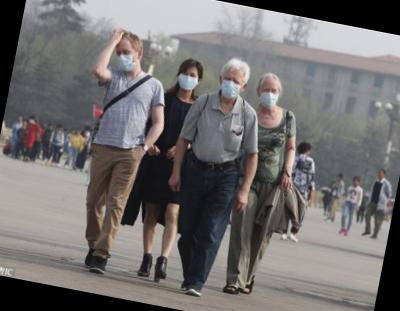with_mask: (111, 46, 139, 75), (218, 73, 245, 103), (257, 83, 281, 110), (175, 69, 200, 93)
without_mask: (378, 169, 386, 179), (353, 177, 361, 186)
